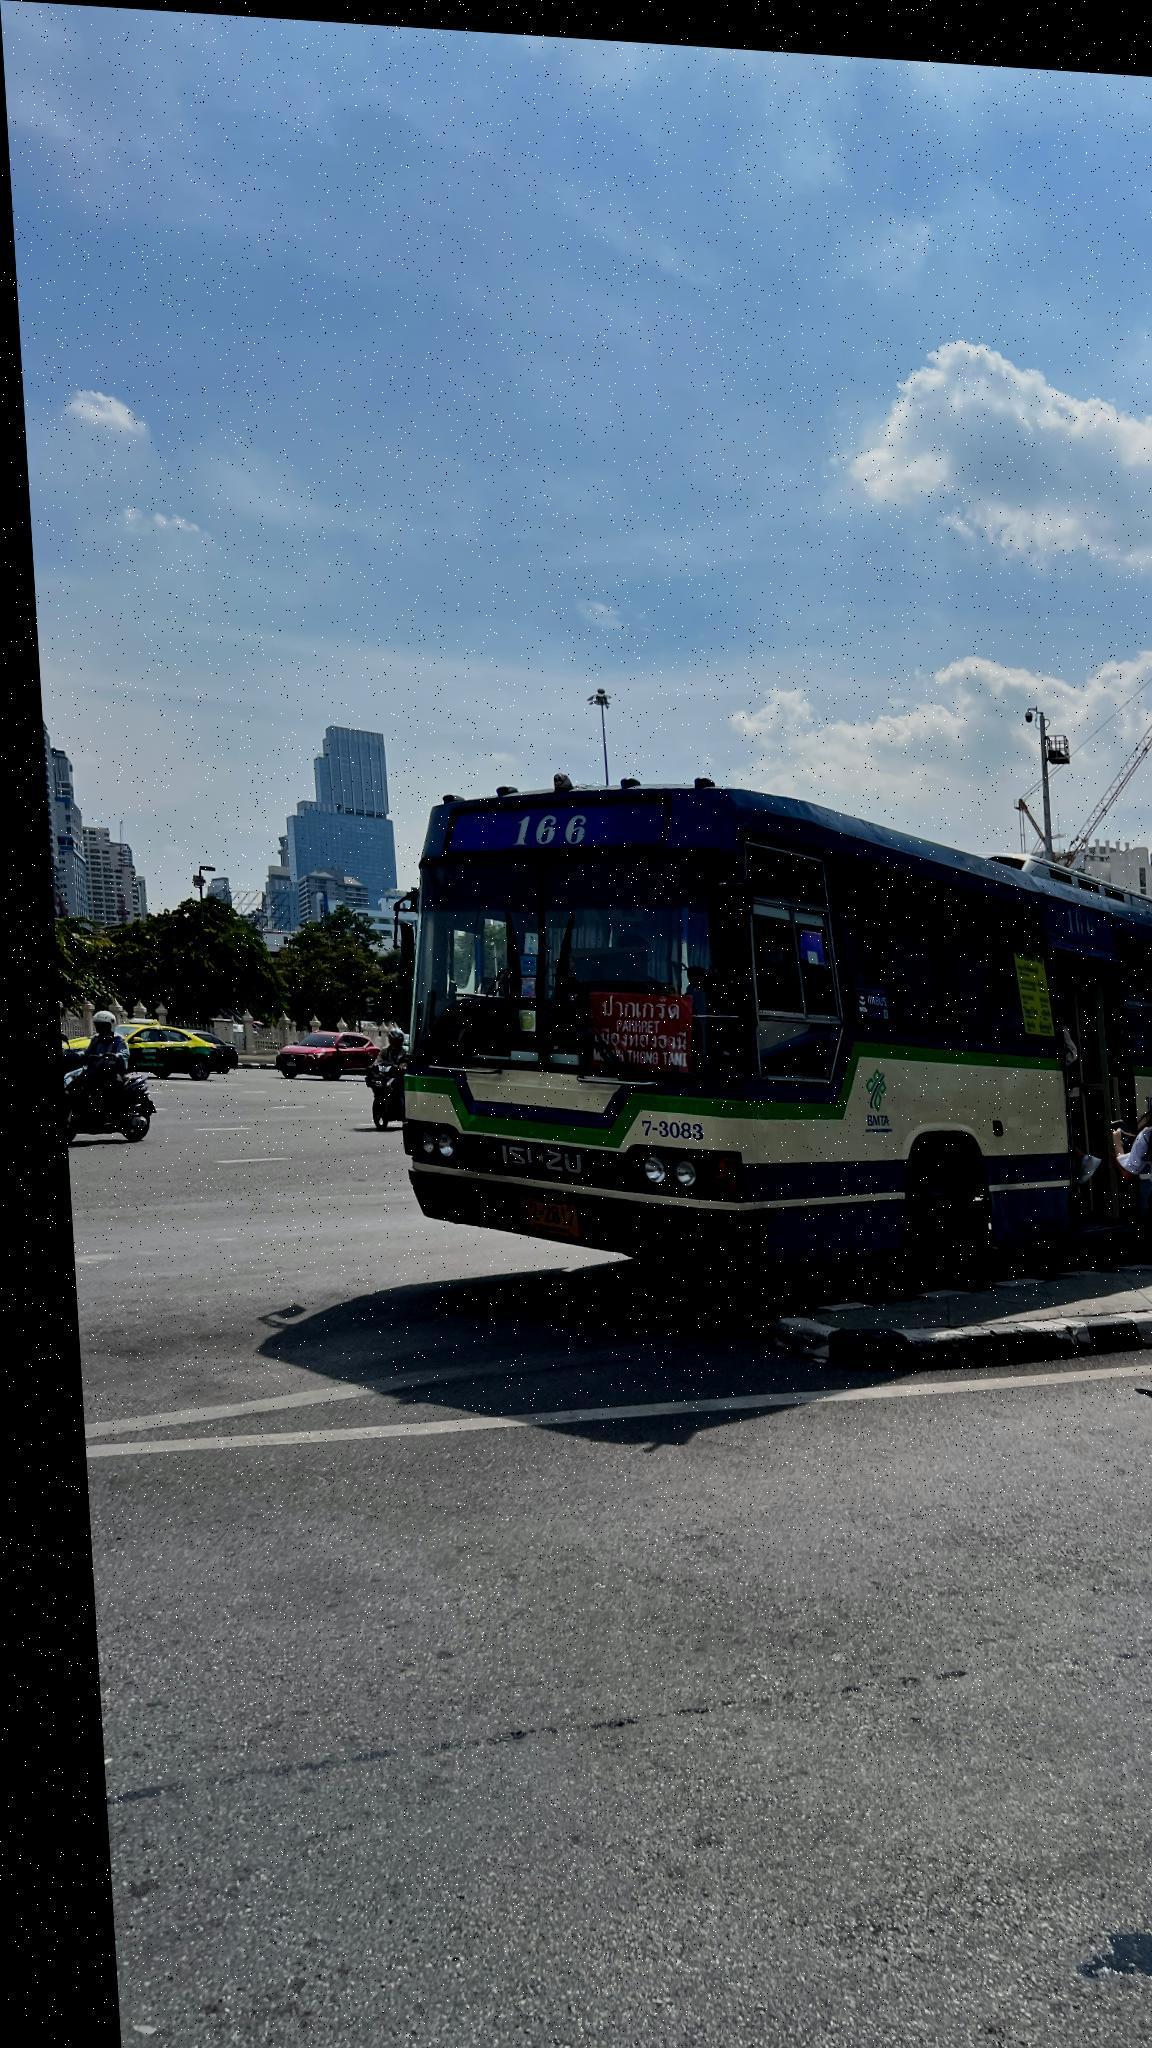BMTA-bus: (387, 775, 1152, 1298)
Bus Line Number: (492, 795, 592, 844)
Bus Side Number: (622, 1110, 695, 1135)
Destination Sign: (584, 982, 685, 1066)
